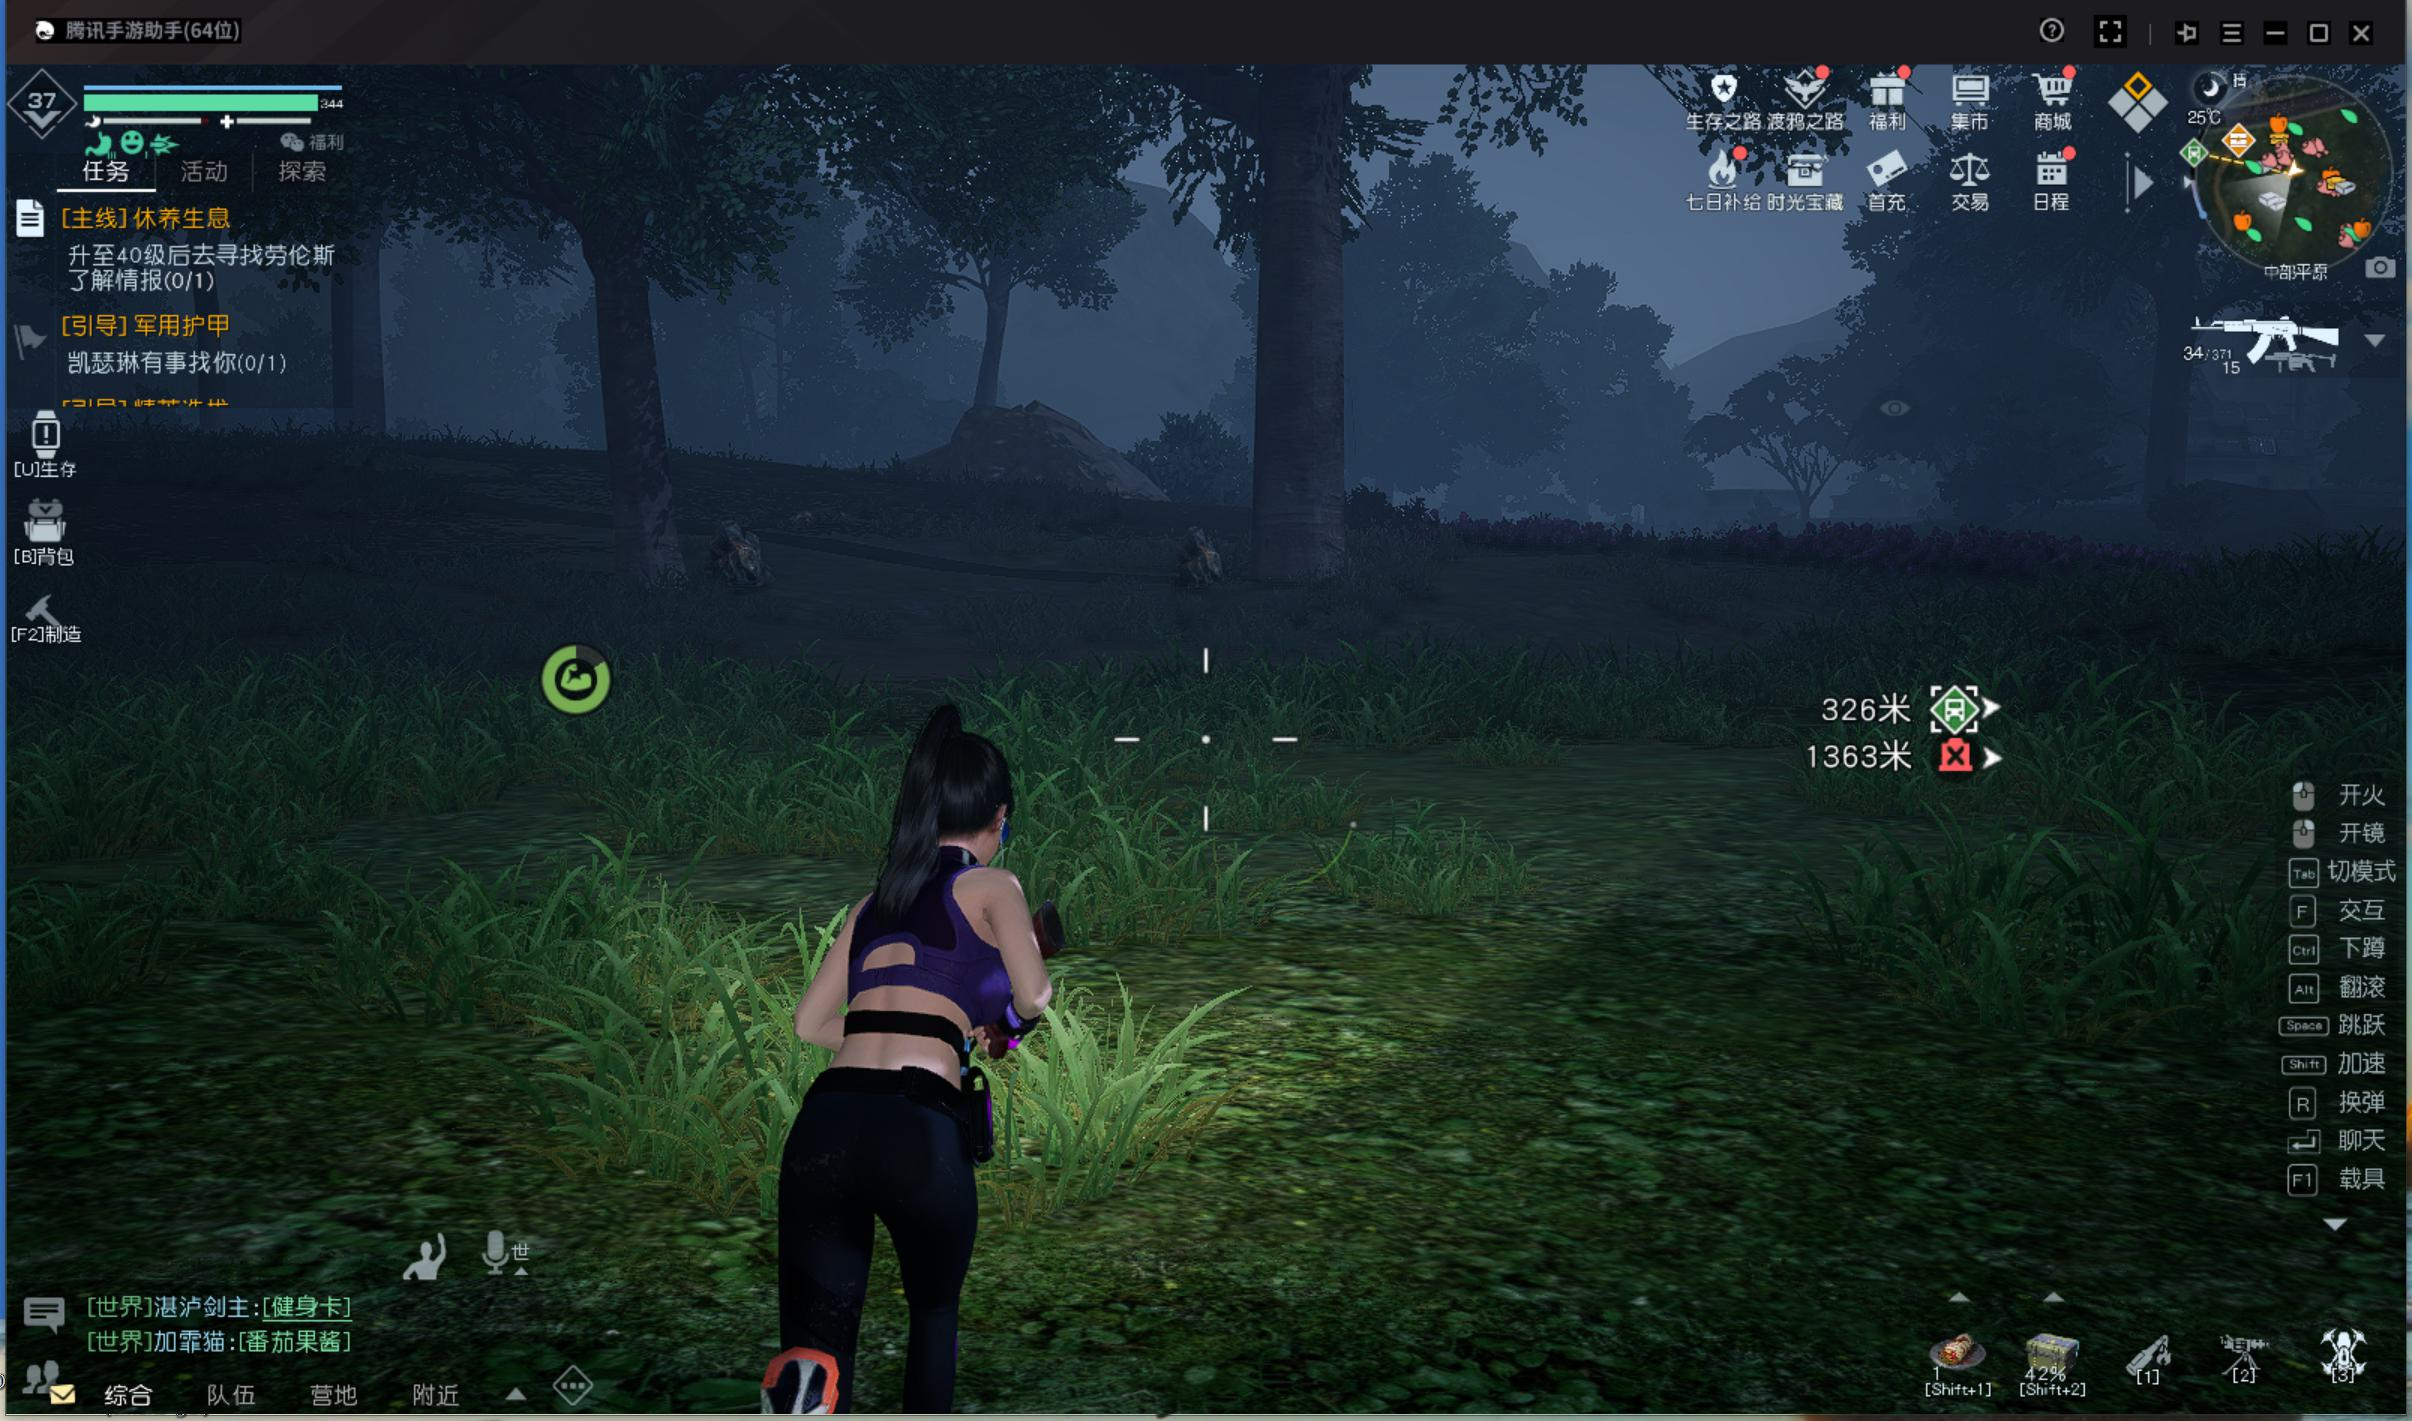stone: (705, 504, 781, 604), (1170, 528, 1226, 597)
tree: (1235, 223, 1353, 601), (589, 286, 692, 614), (2131, 310, 2202, 557)
